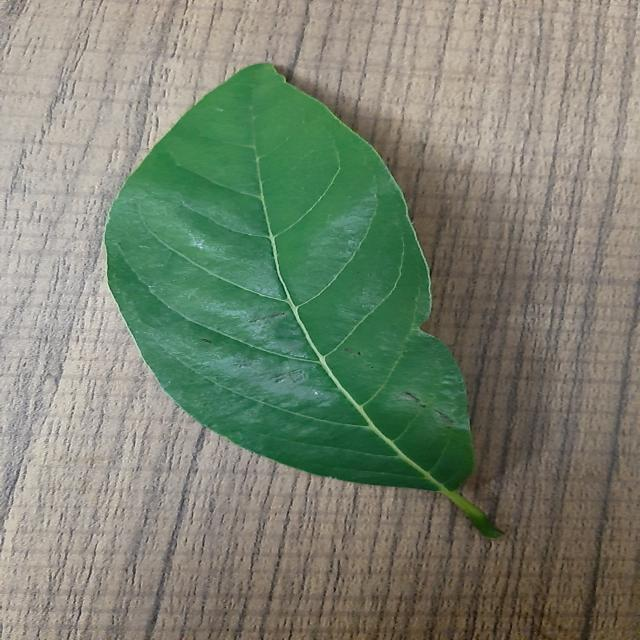seethaphala: (106, 64, 501, 538)
